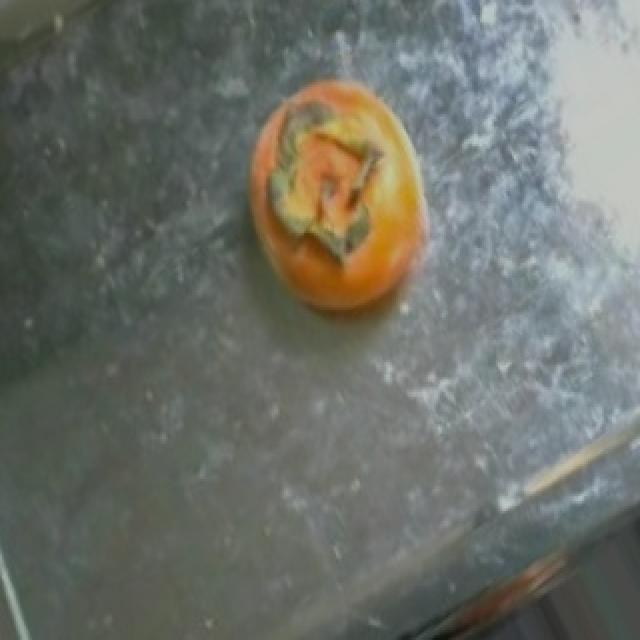Fruit: (220, 69, 460, 345)
